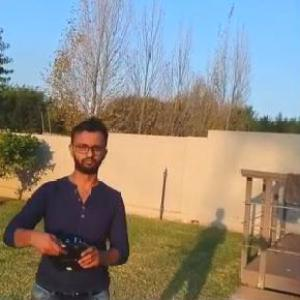follow: (0, 108, 129, 299)
